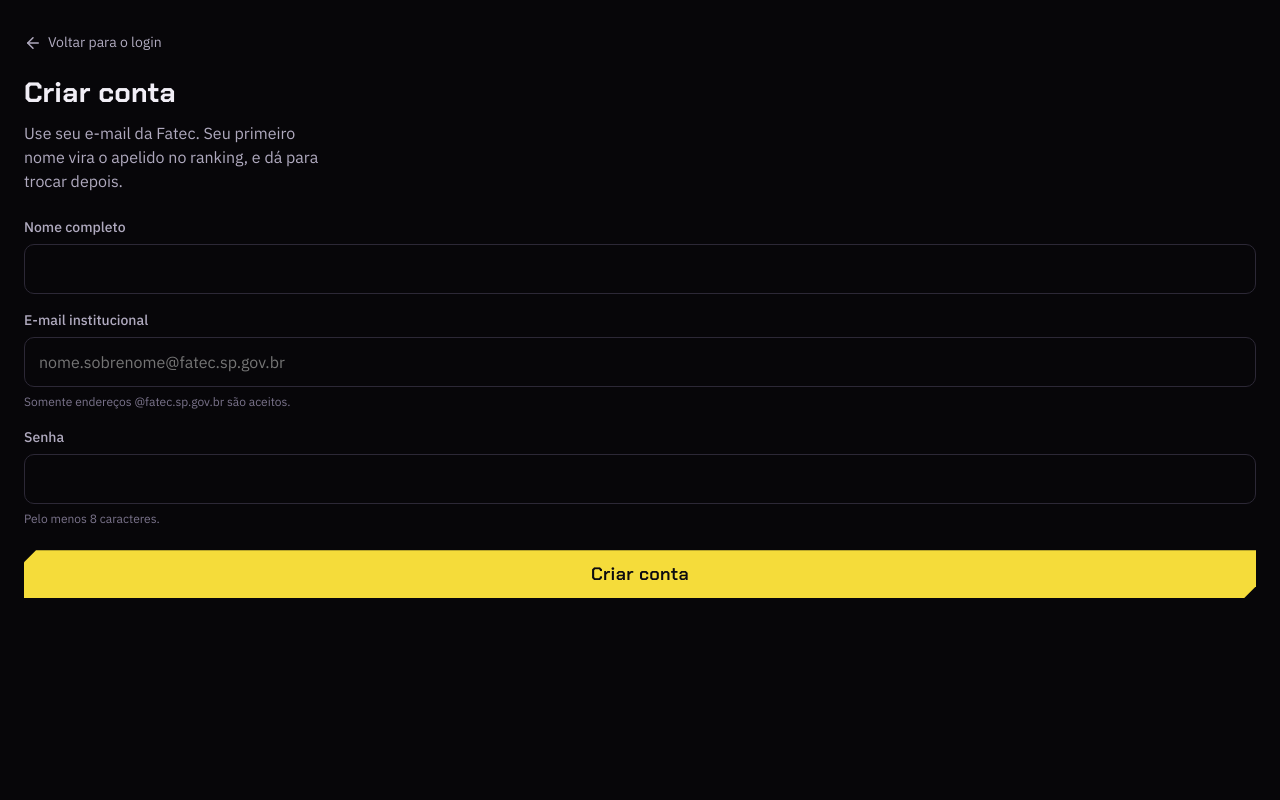
Test: Cadastro › exibe o erro quando o e-mail está fora do domínio institucional (422)
This screenshot has width=1280, height=800.
Type "Bruno Costa" into the field labelled "Nome completo". click: (640, 269)
box: [24, 244, 1256, 294]
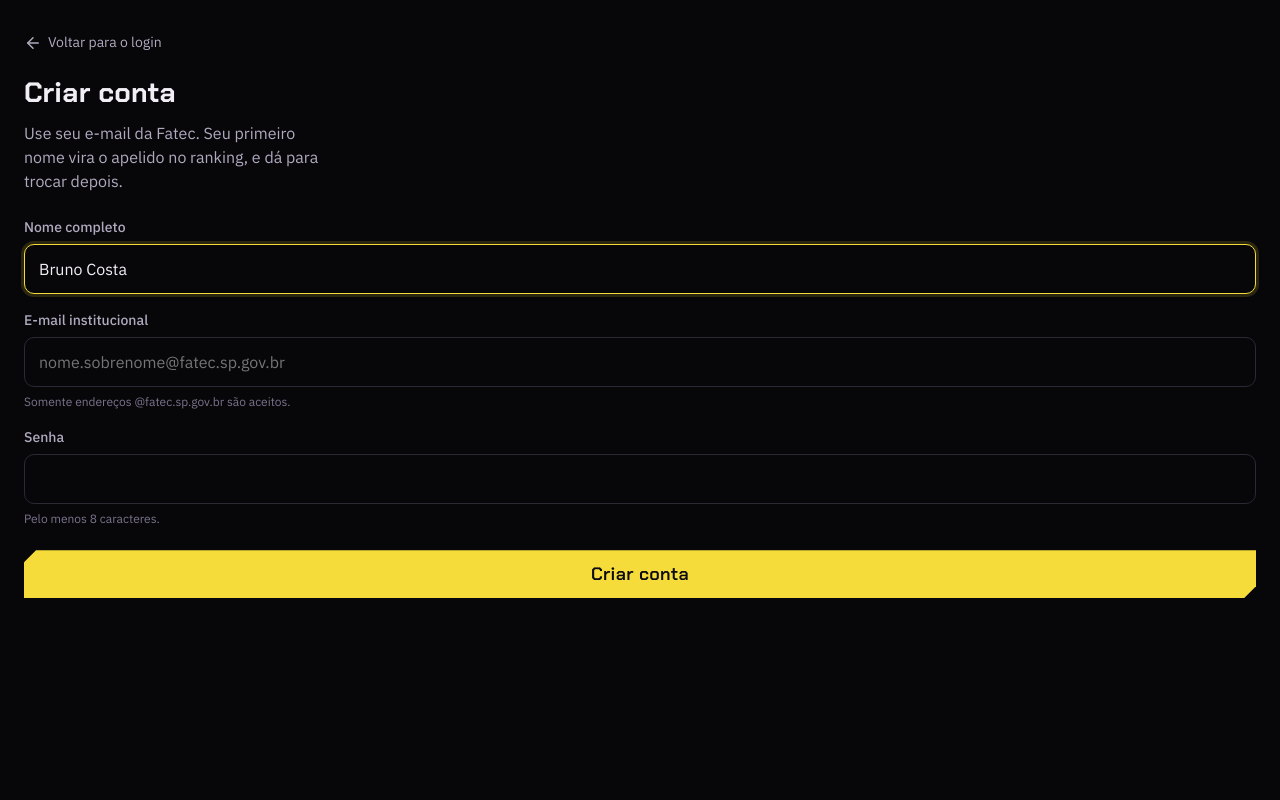
Type "bruno@gmail.com" into the field labelled "E-mail institucional". click: (640, 362)
box: [24, 337, 1256, 387]
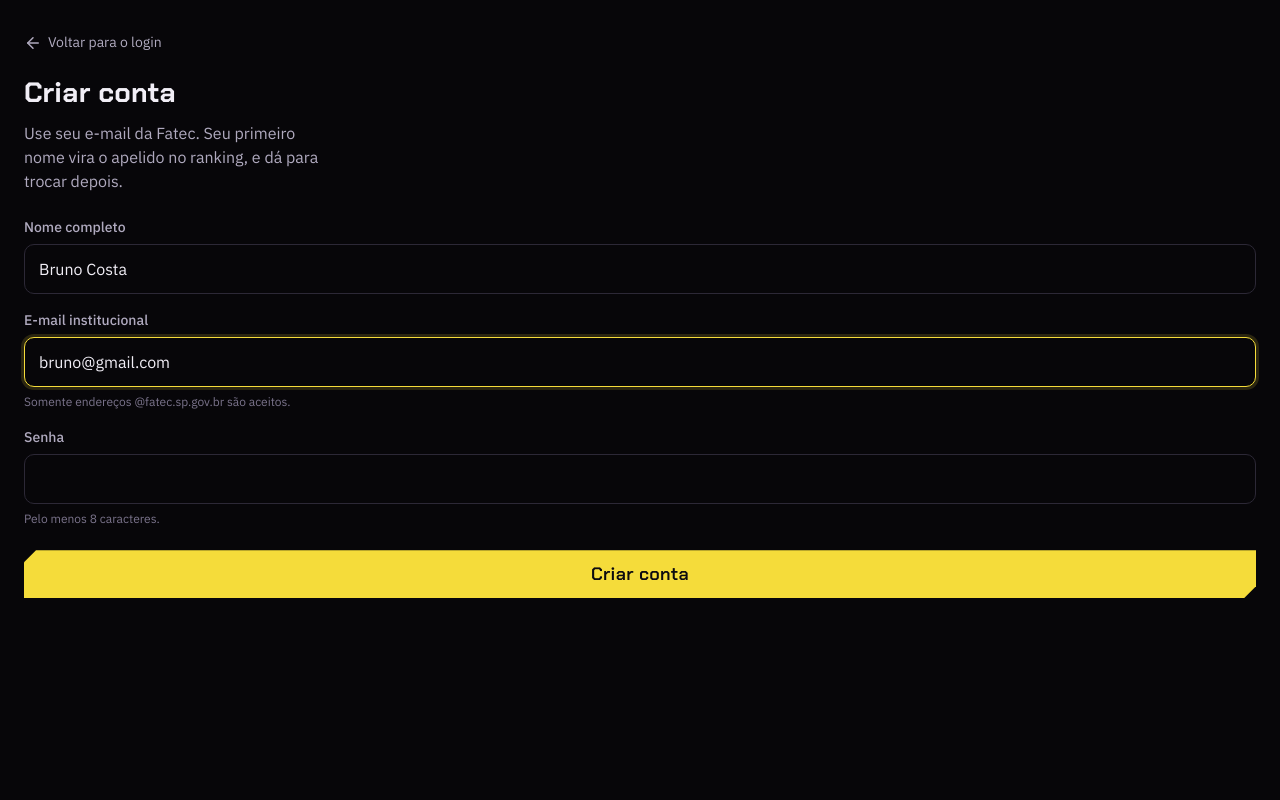
Type "senhaSegura123" into the password field labelled "Senha". click: (640, 479)
box: [24, 454, 1256, 504]
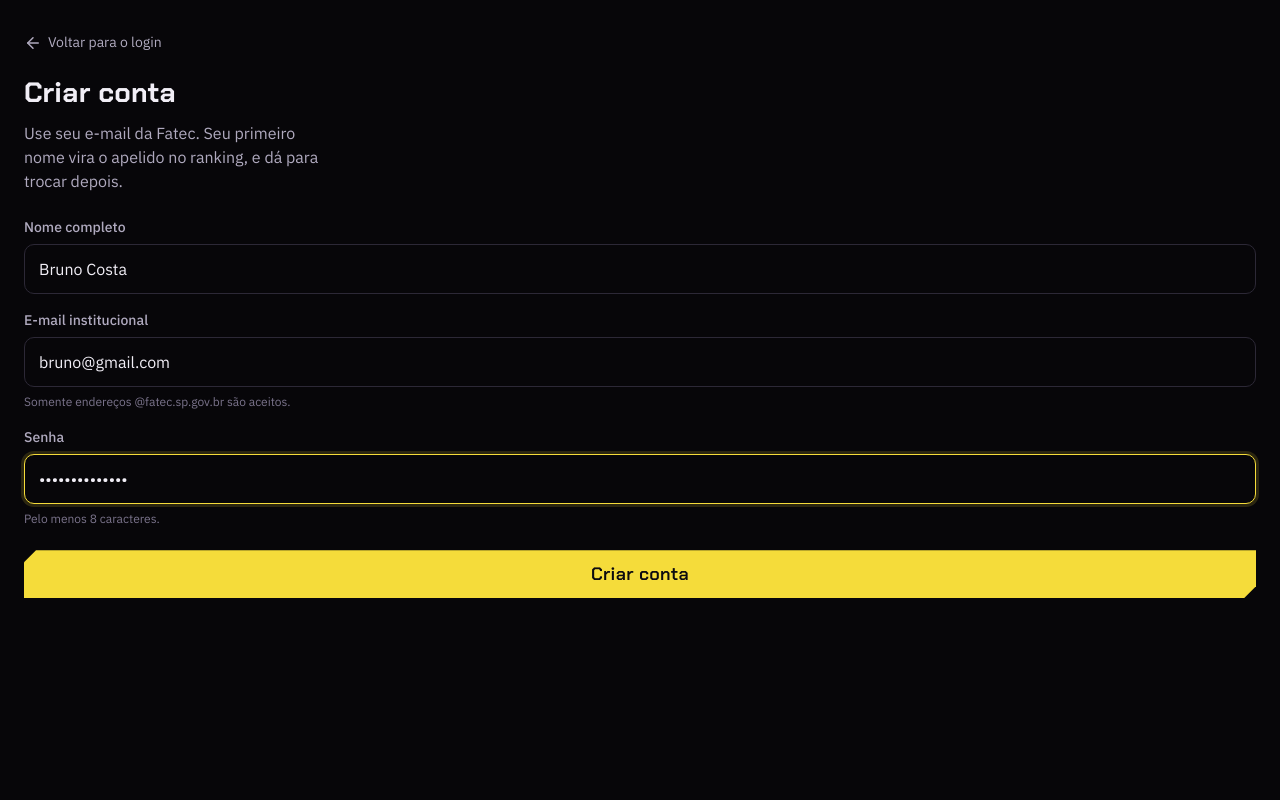
Click the button "Criar conta". click: (640, 574)
box: [24, 550, 1256, 598]
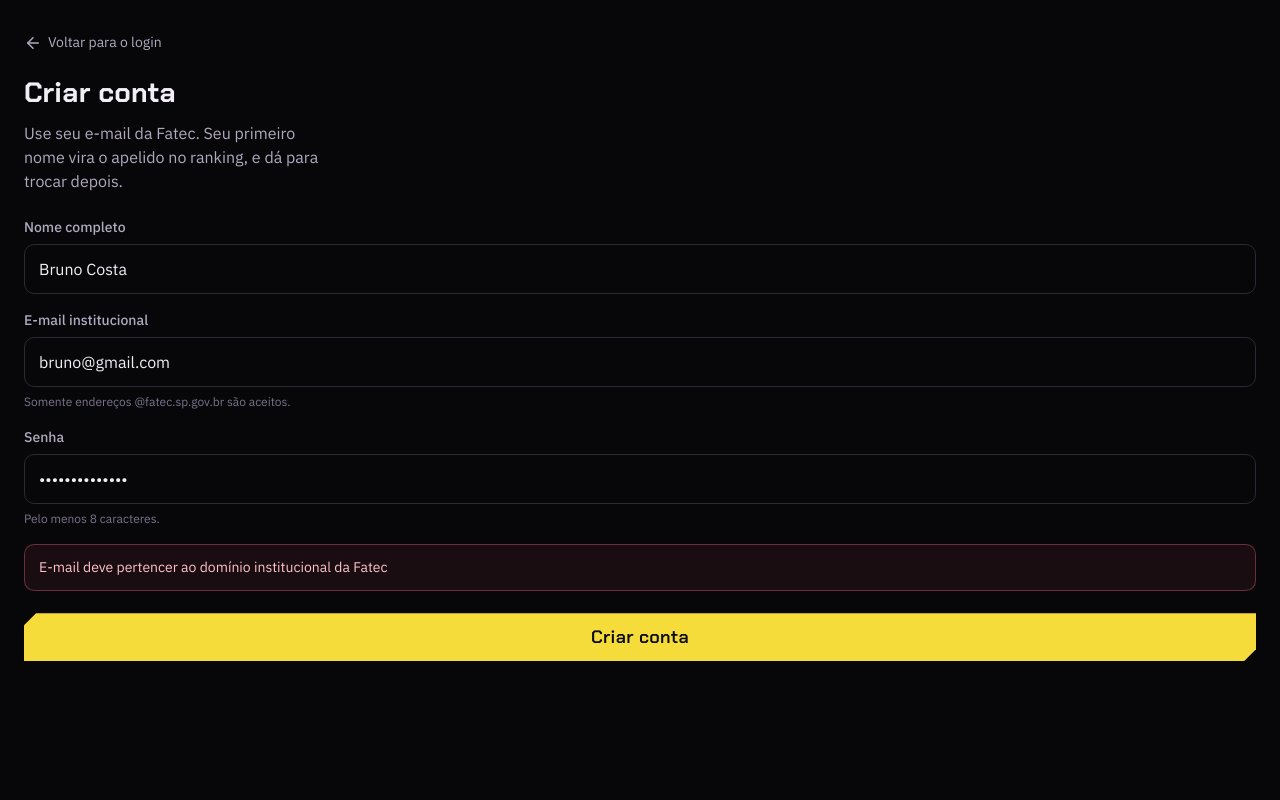
Now the message shows "domínio institucional", box [39, 558, 388, 576]
